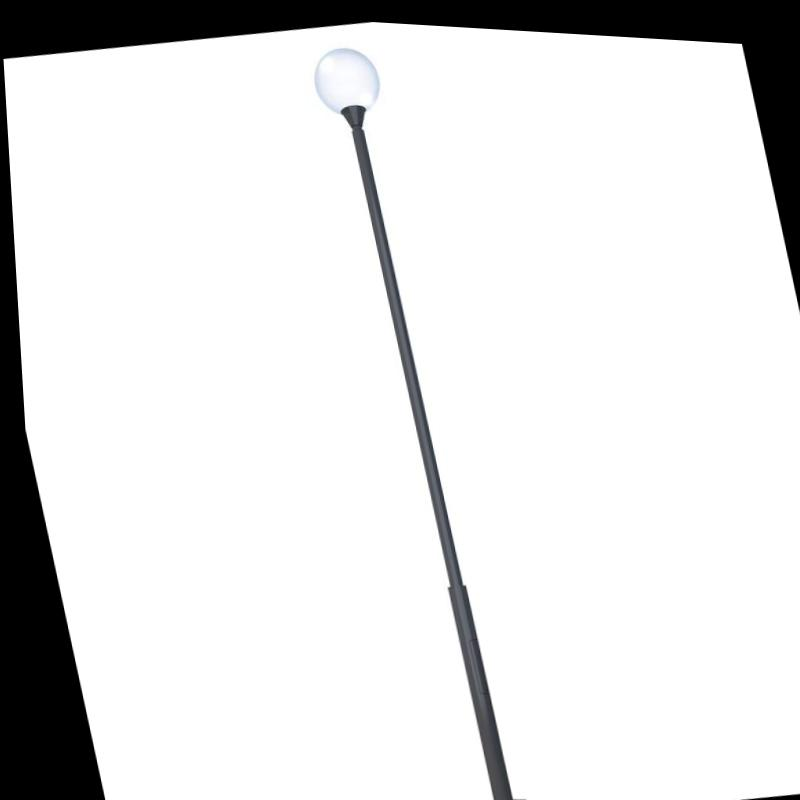Animal: (285, 20, 539, 800)
